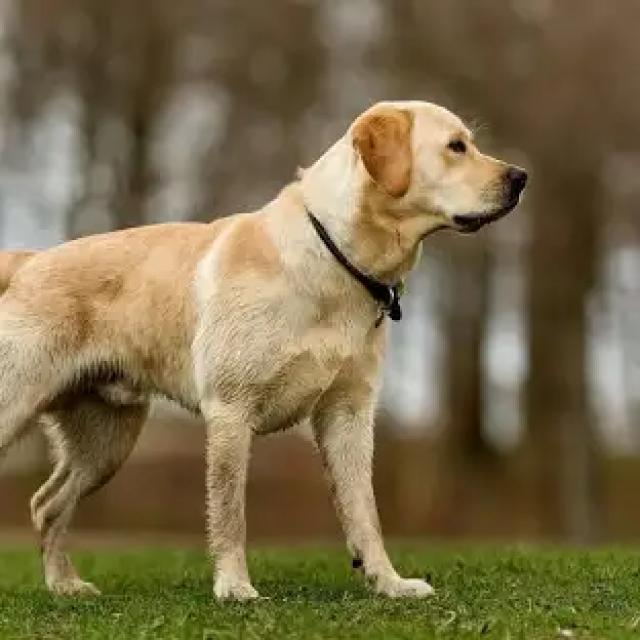dog: (1, 100, 529, 610)
